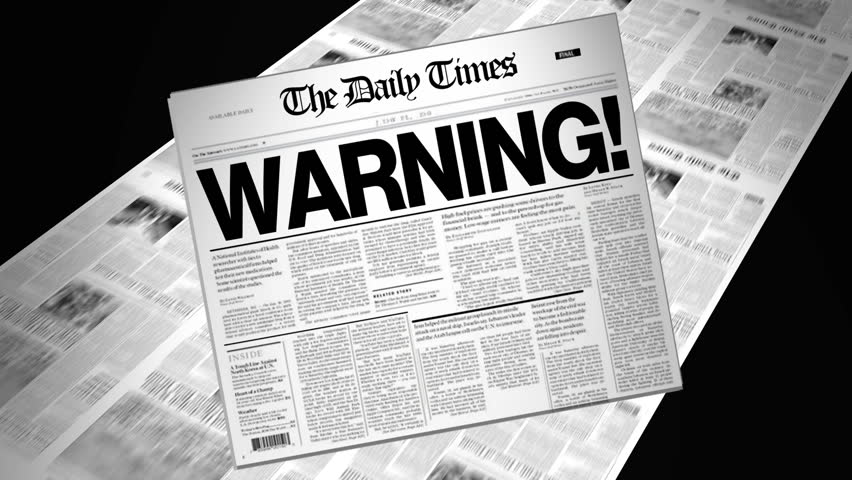news_paper: (1, 2, 850, 479), (133, 3, 755, 480)
